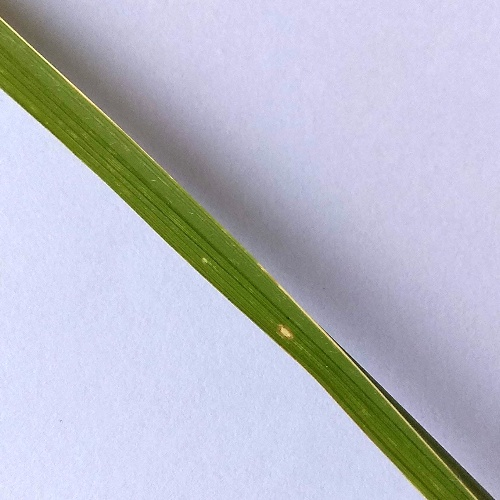Busuk Leher: (278, 313, 295, 344), (200, 246, 218, 270)
